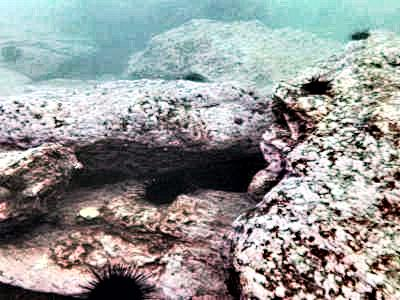urchin: (90, 272, 139, 298), (140, 180, 175, 206), (304, 78, 332, 97), (351, 29, 369, 39)
